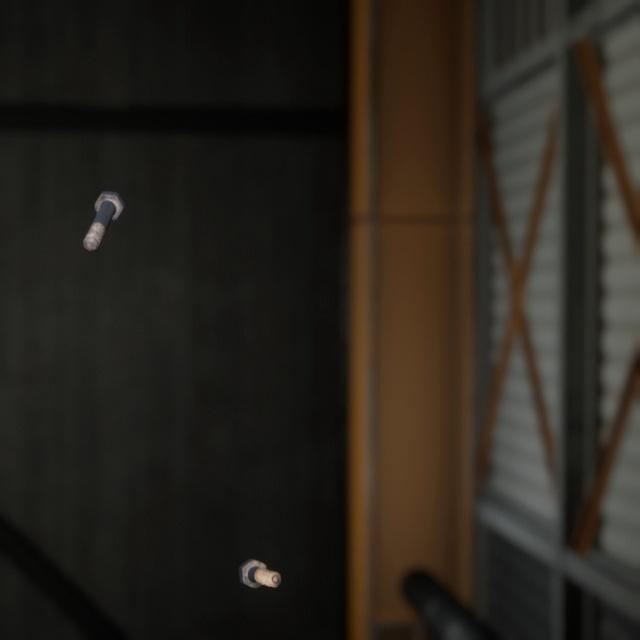bolt: (78, 172, 129, 240), (234, 531, 285, 570)
